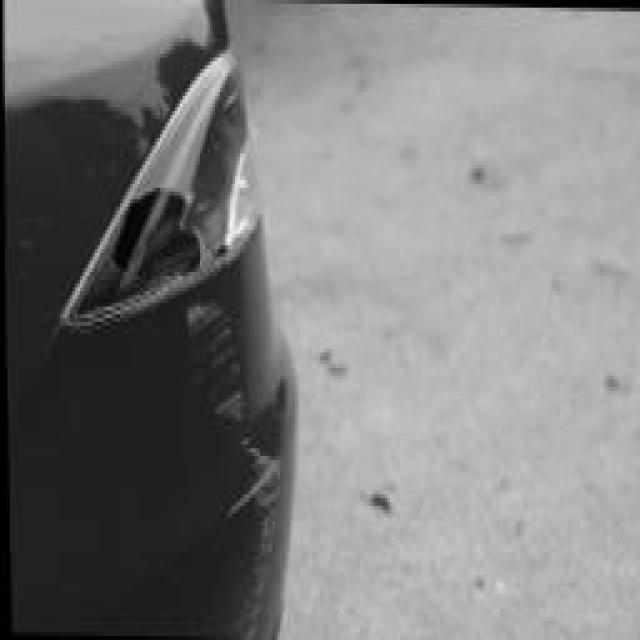Bumper: (105, 228, 297, 639)
Light: (54, 48, 278, 336)
